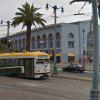Bus: (2, 47, 53, 83)
